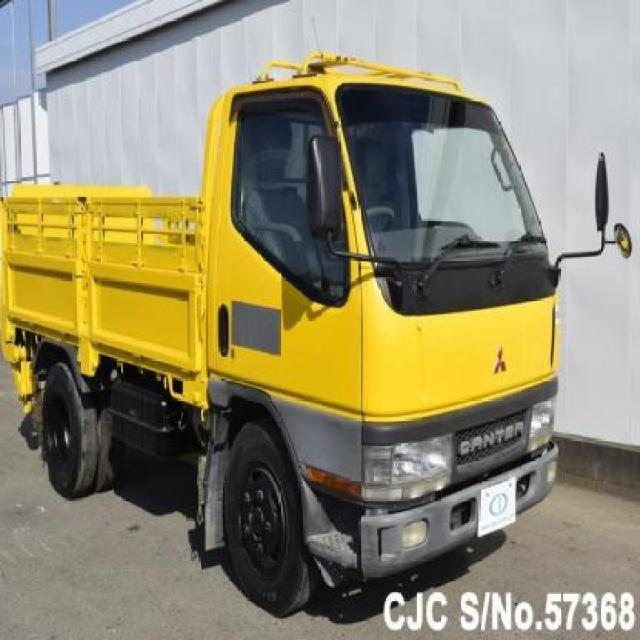truck: (1, 50, 607, 617)
